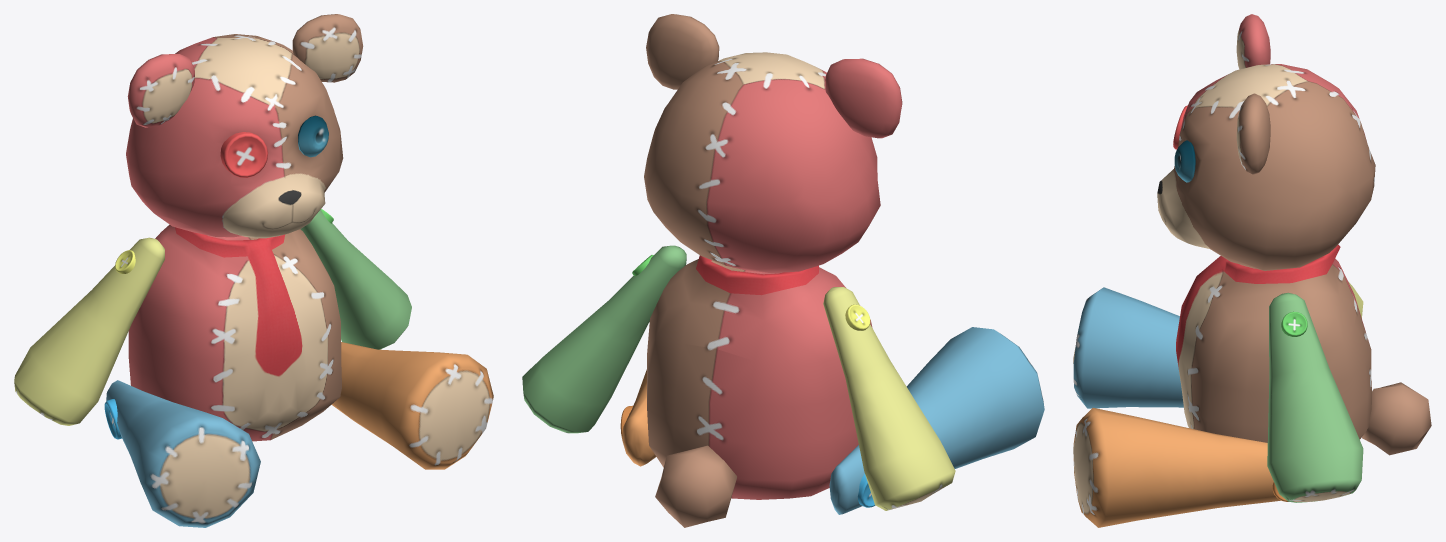
The model's file is obj_teddybear_8673cf.glb.
3 views of the same model, side by side, from view 1: azimuth 30°, elevation 25°; view 2: azimuth 150°, elevation 25°; view 3: azimuth 270°, elevation 25° (orthographic). The views are drawn at different scales.
Visible parts, largest first — view 1: obj_teddybear_8673cf; view 2: obj_teddybear_8673cf; view 3: obj_teddybear_8673cf.
Part boxes in pixels (x1,y1,x2,y2): obj_teddybear_8673cf: (14,14,493,527); obj_teddybear_8673cf: (522,14,1044,527); obj_teddybear_8673cf: (1073,14,1431,527).
Bounding box in the file's own units: 0.4004 × 0.4 × 0.3208.
1 material, 1 textured.
